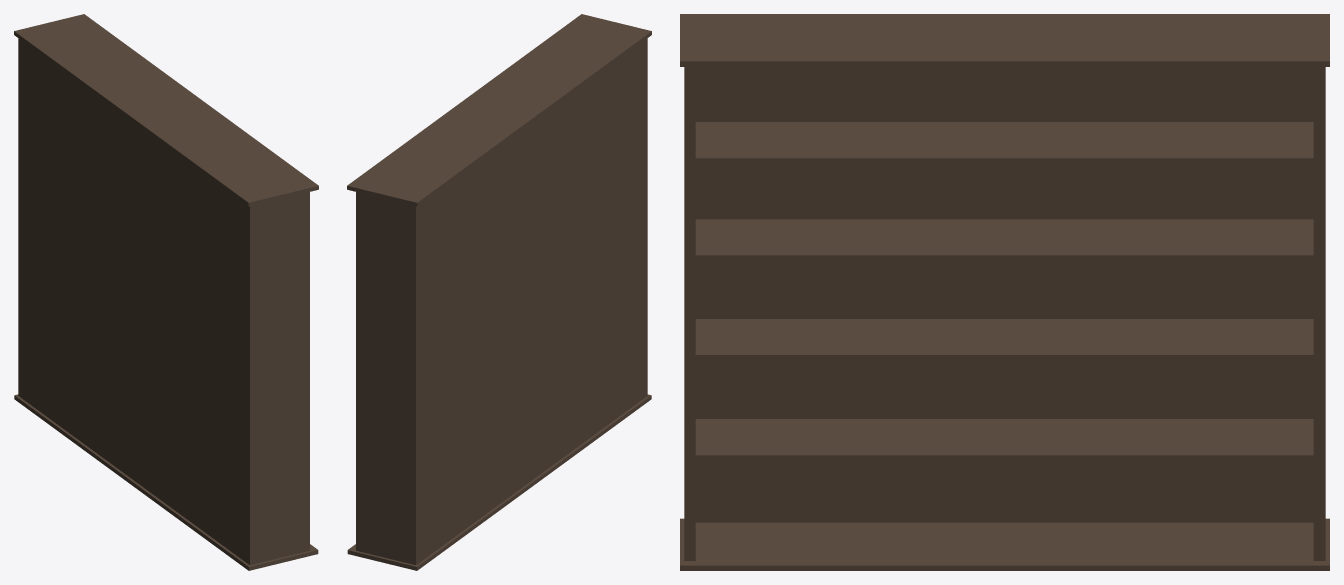
File: bookshelf_empty_2 1.fbx
The picture shows the model from 3 angles, left to right: view 1: azimuth 30°, elevation 25°; view 2: azimuth 150°, elevation 25°; view 3: azimuth 270°, elevation 25°; orthographic projection. The views are drawn at different scales.
Visible parts, largest first — view 1: pCube4, pCube5, pCube6; view 2: pCube4, pCube5, pCube6; view 3: pCube4, pCube5, pCube6, pCube7, pCube11, pCube12, pCube13.
Part boxes in pixels (bbox=[...]): pCube4: bbox=[18, 38, 309, 565]; pCube5: bbox=[14, 14, 318, 206]; pCube6: bbox=[14, 394, 318, 570]; pCube4: bbox=[356, 38, 647, 565]; pCube5: bbox=[347, 14, 651, 206]; pCube6: bbox=[347, 394, 651, 570]; pCube4: bbox=[684, 67, 1325, 560]; pCube5: bbox=[680, 14, 1329, 66]; pCube6: bbox=[680, 518, 1329, 570]; pCube7: bbox=[695, 419, 1313, 460]; pCube11: bbox=[695, 319, 1313, 360]; pCube12: bbox=[695, 219, 1313, 260]; pCube13: bbox=[695, 122, 1313, 163].
Size of the model in its own units: 171 by 854 by 987.
